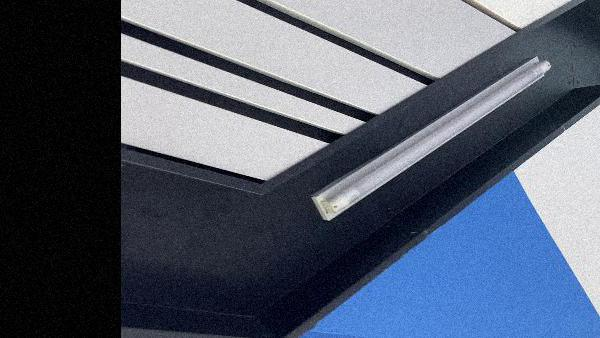light_off: (302, 41, 558, 230)
